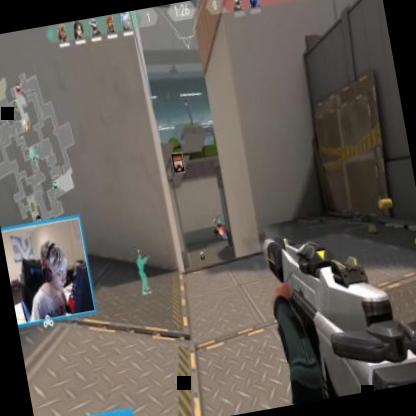enemy: (210, 217, 222, 239)
enemy_head: (212, 218, 216, 223)
